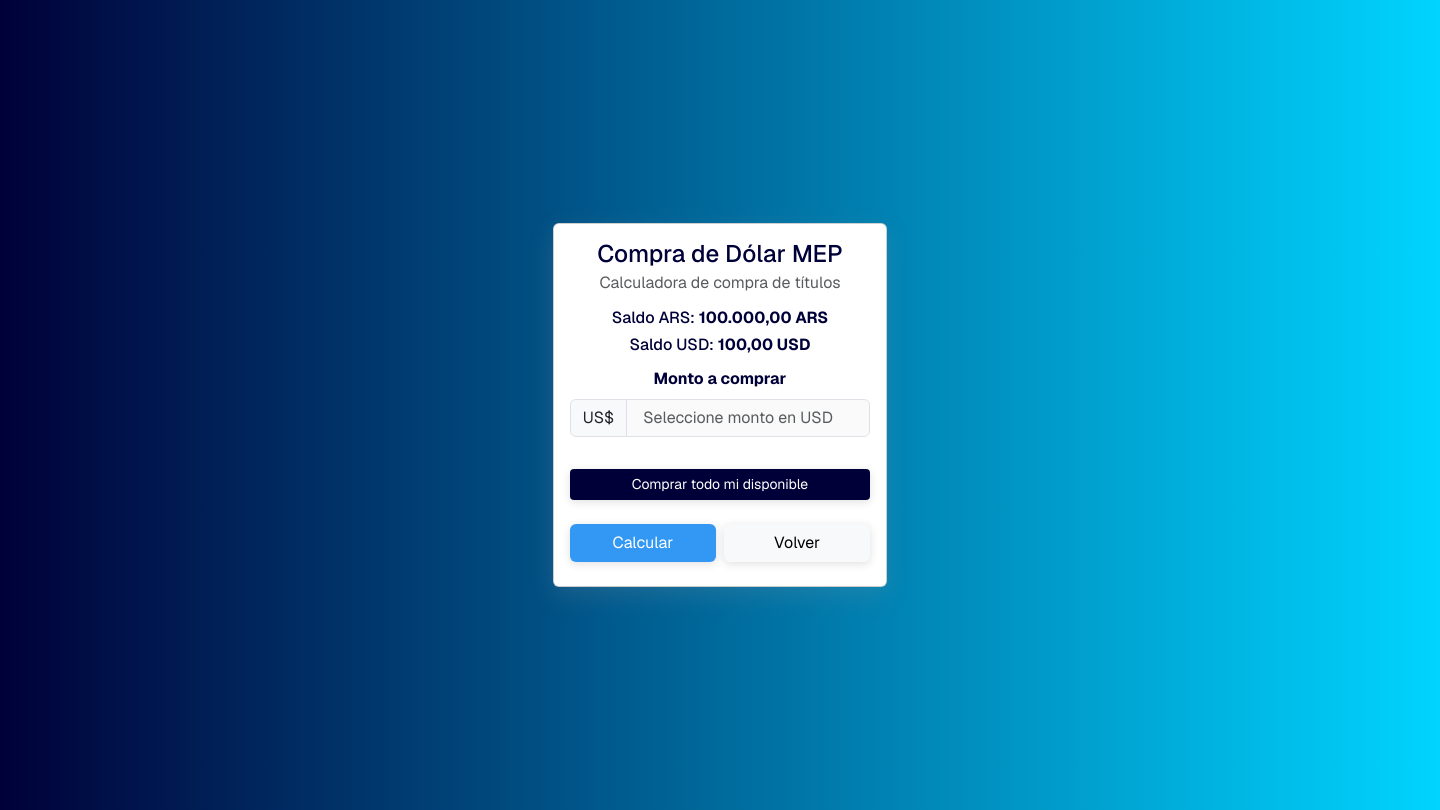
Test: BuyCard Component › should show error message if amount is greater than 100.000.000
Type "10000000000" into the number field with placeholder "Seleccione monto en USD" at [748, 418], box [626, 399, 870, 437]
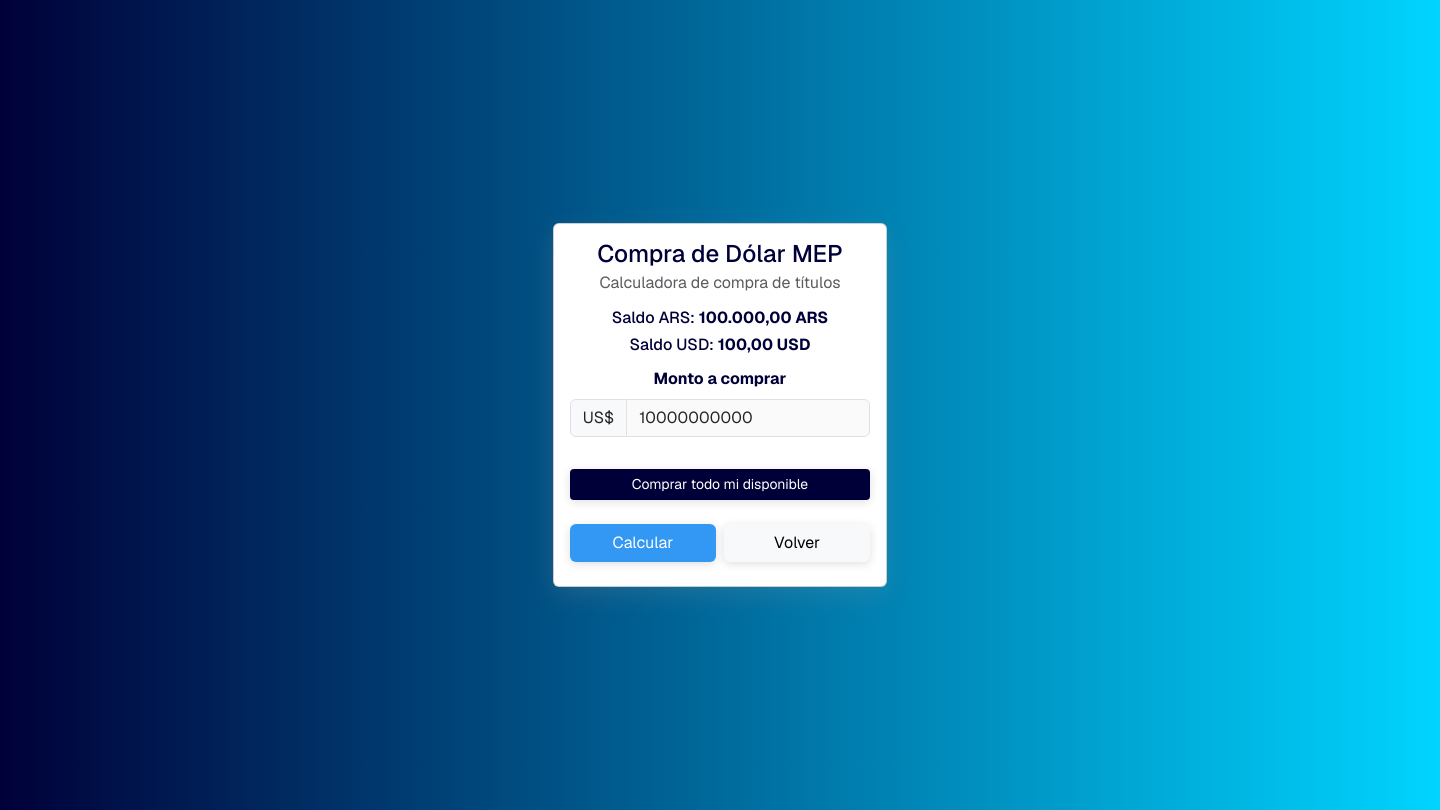
Click the button "Calcular" at [643, 543], box [570, 524, 716, 562]
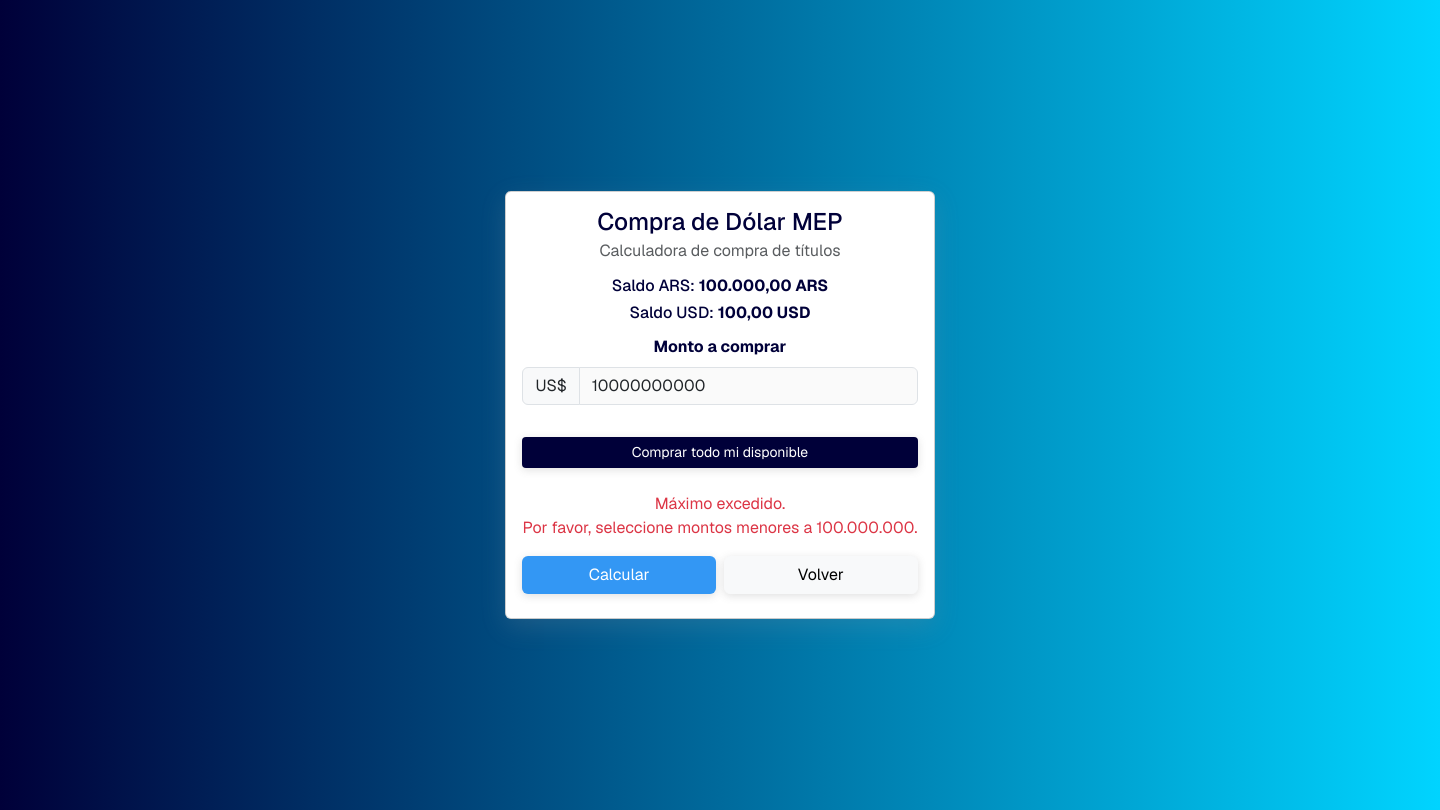
Now the text "Máximo excedido. Por favor, seleccione montos menores a 100.000.000." is shown, box [522, 492, 918, 540]
